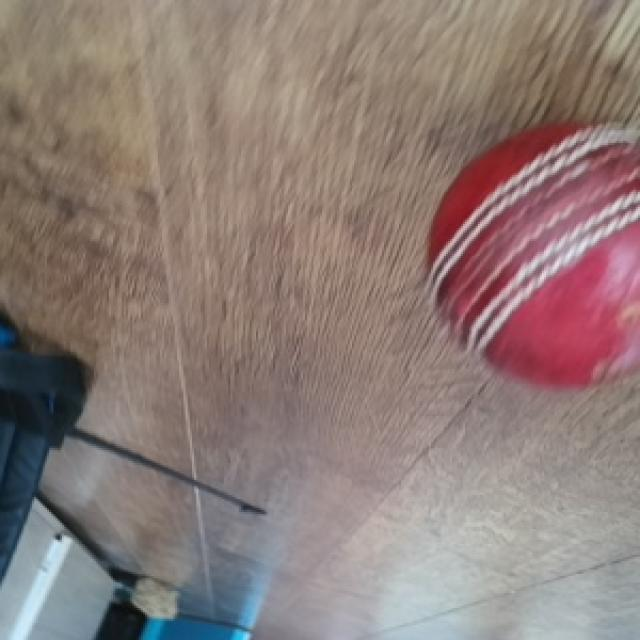ball: (422, 117, 640, 395)
